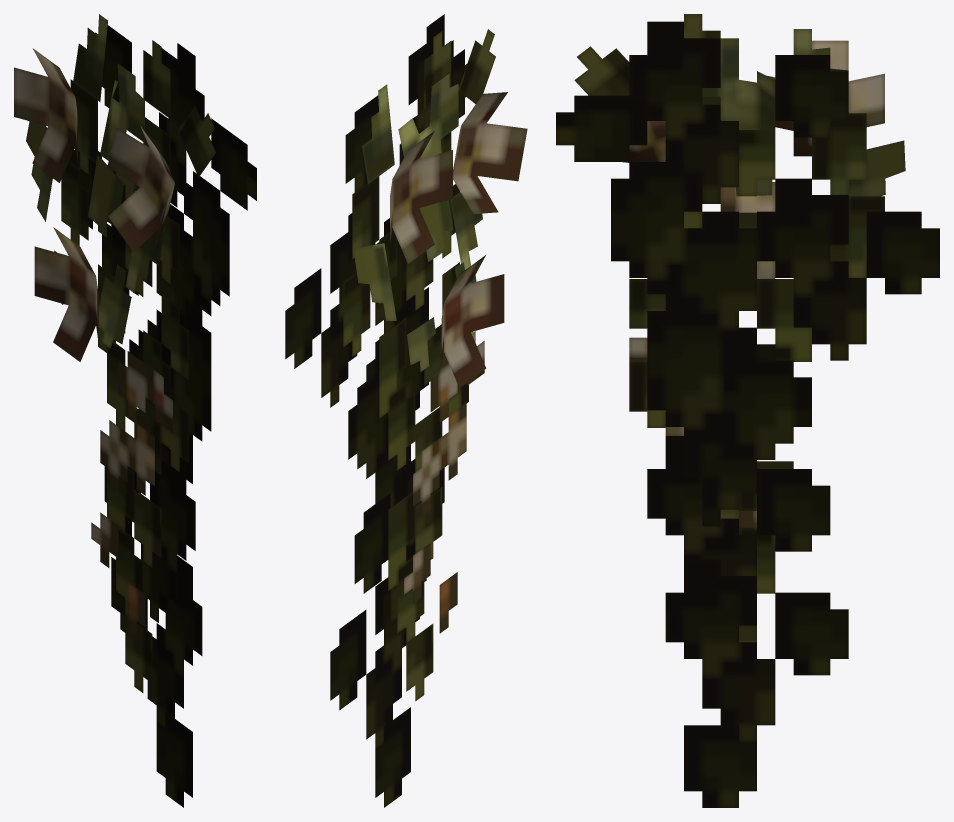
Rendered from EnvFldMD_Grass_J_Flower_A.FBX.
The picture shows the model from 3 angles, left to right: view 1: azimuth 30°, elevation 25°; view 2: azimuth 150°, elevation 25°; view 3: azimuth 270°, elevation 25°; orthographic projection.
Visible parts, largest first — view 1: EnvFldMD_Grass_J_Flower_A; view 2: EnvFldMD_Grass_J_Flower_A; view 3: EnvFldMD_Grass_J_Flower_A.
Boxes of the visible parts, x1,y1,x2,y2 form: EnvFldMD_Grass_J_Flower_A: (14,14,256,807); EnvFldMD_Grass_J_Flower_A: (285,14,527,807); EnvFldMD_Grass_J_Flower_A: (556,14,939,807).
Size of the model in its own units: 30 by 235 by 105.
1 material, 1 textured.
